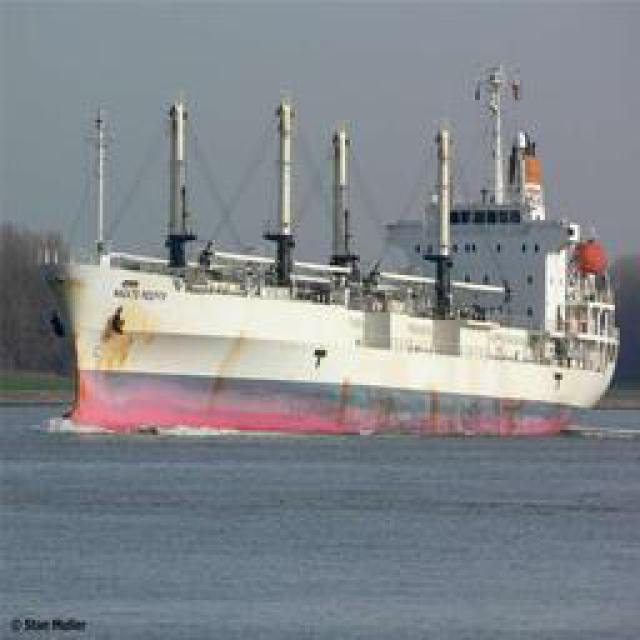Ship: (17, 80, 630, 440)
